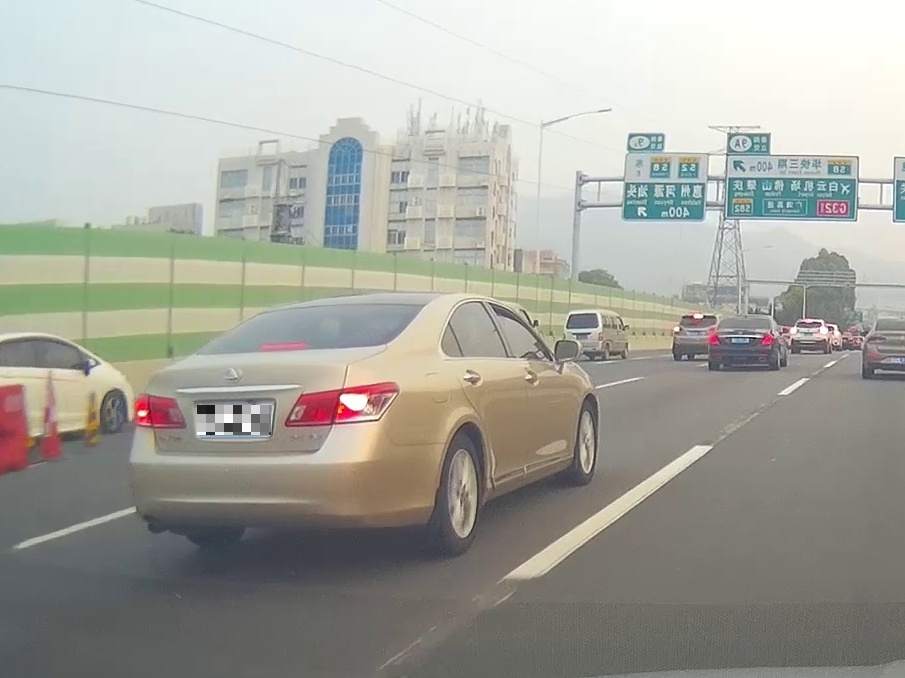L_light: (132, 393, 188, 430), (710, 332, 721, 344)
R_light: (283, 381, 400, 426), (761, 333, 773, 345)
T_light: (259, 340, 307, 351), (739, 318, 754, 320)
day-no: (707, 314, 778, 371)
day-right: (126, 297, 433, 549)
plate_1: (197, 405, 271, 435)
